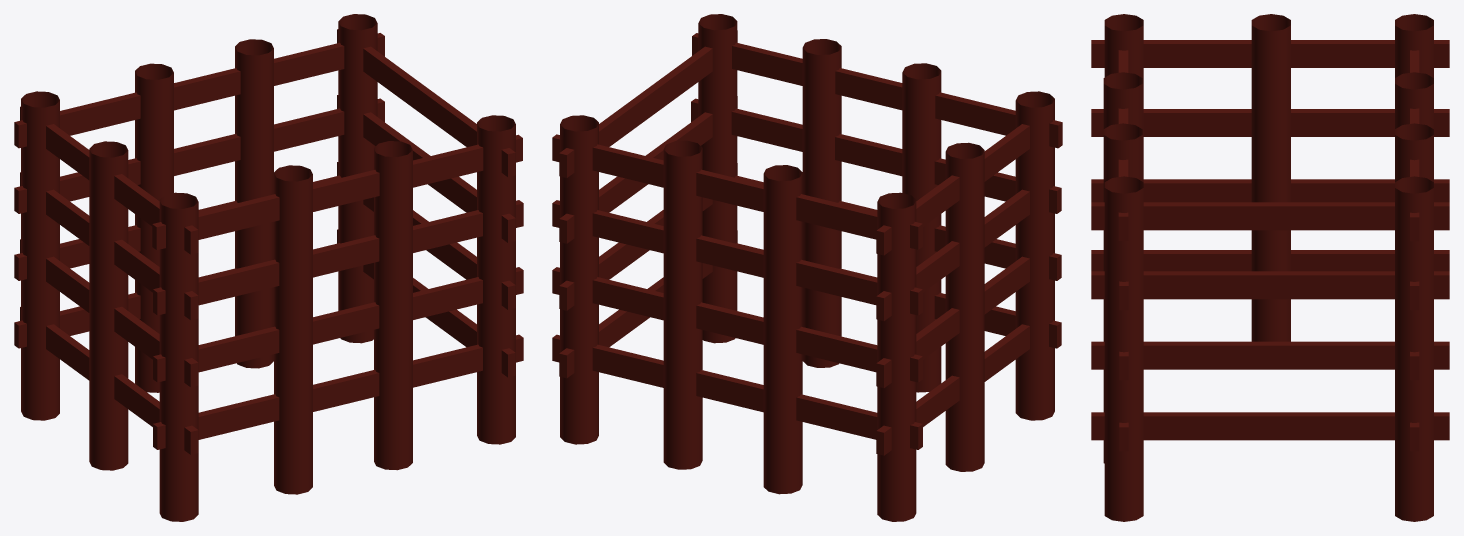
The model's file is high_base_of_the_house.fbx.
3 renders of one model, left to right at view 1: azimuth 30°, elevation 25°; view 2: azimuth 150°, elevation 25°; view 3: azimuth 270°, elevation 25°, orthographic. The views are drawn at different scales.
Visible parts, largest first — view 1: high_base_of_the_house; view 2: high_base_of_the_house; view 3: high_base_of_the_house.
Boxes of the visible parts, x1,y1,x2,y2 form: high_base_of_the_house: (14,14,523,521); high_base_of_the_house: (552,14,1062,521); high_base_of_the_house: (1091,14,1449,521).
Bounding box in the file's own units: 616 × 502 × 496.
